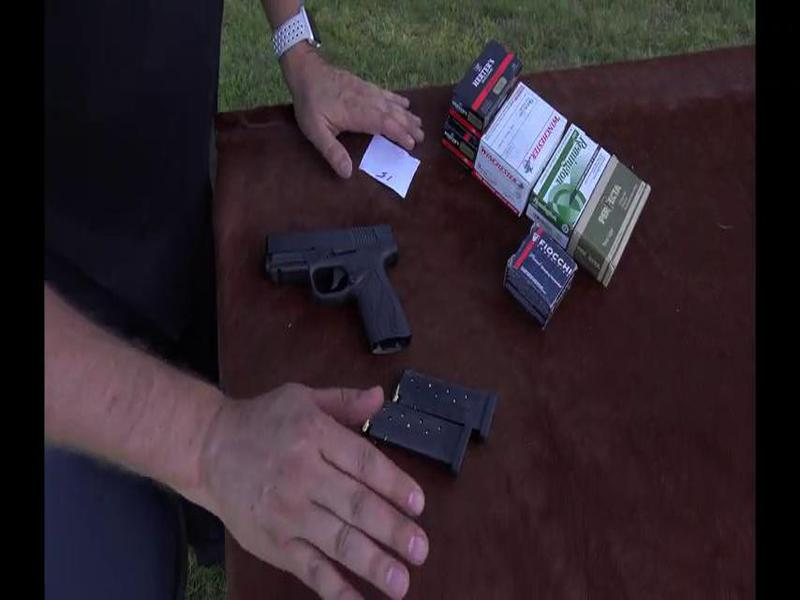Pistola: (262, 219, 439, 357)
